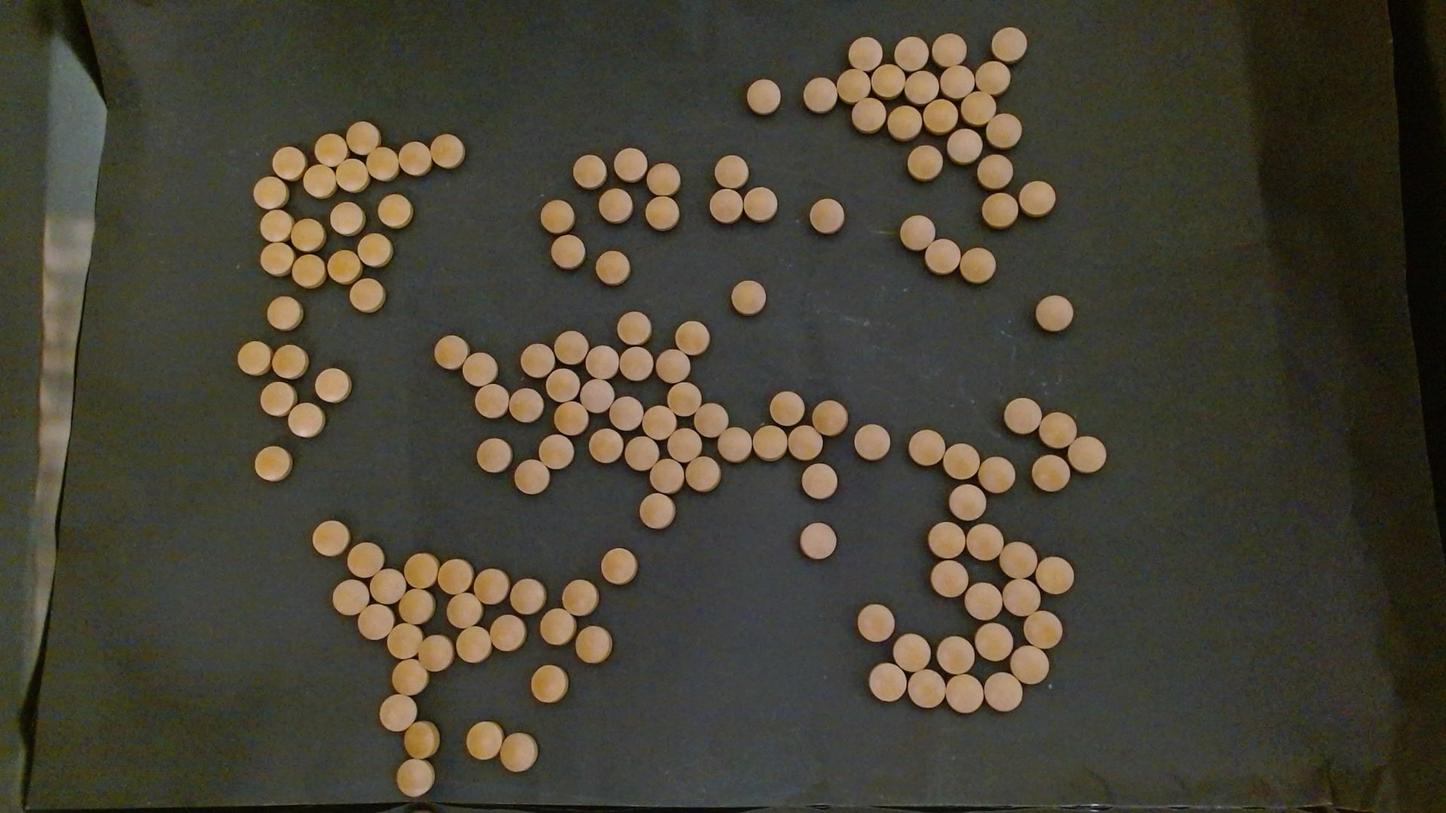Circle: (1033, 294, 1075, 333), (378, 693, 419, 732), (499, 732, 538, 773), (1034, 556, 1075, 595), (856, 603, 895, 643), (1009, 645, 1049, 684), (395, 759, 435, 798), (1018, 179, 1057, 218), (892, 632, 931, 671), (930, 559, 969, 598), (331, 578, 370, 617), (1030, 454, 1070, 492), (1066, 436, 1106, 474), (1002, 397, 1042, 435), (389, 658, 429, 696), (868, 662, 906, 702), (984, 671, 1022, 711), (908, 668, 946, 708), (599, 547, 638, 585), (1039, 410, 1078, 448), (529, 664, 568, 702), (575, 626, 613, 665), (948, 482, 987, 520), (310, 519, 349, 557), (488, 614, 526, 653), (937, 635, 975, 674), (975, 621, 1013, 660), (1002, 578, 1040, 617), (999, 540, 1037, 579), (465, 720, 502, 760), (1023, 611, 1063, 648), (799, 522, 837, 560), (346, 540, 384, 578), (928, 521, 966, 559), (964, 582, 1002, 620), (800, 462, 837, 501), (945, 674, 982, 713), (730, 278, 767, 316), (744, 77, 782, 114), (287, 401, 325, 438), (266, 294, 304, 331), (253, 446, 292, 482), (812, 398, 848, 437), (959, 247, 996, 284), (639, 493, 676, 530), (853, 423, 890, 460), (977, 153, 1014, 190), (259, 380, 296, 417), (561, 578, 598, 615), (428, 132, 465, 169), (942, 443, 979, 480), (314, 367, 352, 403), (539, 608, 575, 646), (509, 578, 545, 616), (347, 277, 385, 313), (908, 428, 944, 466), (270, 343, 308, 379), (968, 522, 1004, 560), (898, 214, 935, 250), (979, 456, 1015, 493), (417, 634, 453, 671), (850, 96, 886, 133), (990, 26, 1027, 62), (368, 568, 405, 604), (892, 35, 929, 71), (388, 623, 425, 659), (258, 241, 295, 277), (475, 437, 511, 473), (513, 459, 549, 495), (236, 340, 272, 376), (432, 333, 468, 369), (329, 200, 365, 236), (398, 588, 434, 624), (357, 603, 393, 639), (252, 175, 288, 211), (906, 144, 941, 181), (802, 76, 837, 113), (598, 187, 633, 224), (456, 626, 491, 663), (377, 192, 414, 227), (437, 558, 472, 595), (447, 592, 482, 629), (404, 720, 438, 758), (595, 249, 630, 285), (982, 193, 1018, 228), (808, 197, 843, 233), (924, 239, 959, 275), (712, 153, 748, 188), (539, 198, 575, 233), (572, 153, 607, 189), (673, 320, 709, 355), (769, 390, 804, 426), (357, 231, 393, 266), (616, 310, 651, 346), (985, 112, 1020, 148), (326, 249, 362, 284), (835, 67, 871, 102), (270, 145, 306, 180), (932, 32, 967, 68), (960, 90, 996, 125), (975, 60, 1010, 96), (473, 568, 508, 604), (709, 187, 743, 224), (743, 187, 778, 222), (550, 234, 585, 269), (645, 195, 680, 230), (291, 253, 326, 288), (538, 434, 573, 469), (847, 35, 882, 70), (649, 457, 684, 492), (553, 400, 588, 435), (520, 343, 555, 378), (545, 367, 580, 402), (693, 402, 728, 437), (404, 553, 438, 589), (346, 120, 380, 156), (258, 208, 294, 242), (334, 157, 368, 193), (474, 383, 508, 419), (904, 69, 938, 105), (871, 62, 905, 98), (608, 395, 642, 431), (947, 128, 981, 163), (612, 147, 647, 181), (397, 141, 431, 176), (887, 105, 921, 140), (717, 427, 751, 462), (752, 425, 786, 460), (462, 352, 497, 386), (685, 456, 719, 491), (923, 98, 958, 132), (290, 217, 325, 251), (302, 163, 336, 198), (625, 435, 659, 470), (941, 64, 975, 99), (579, 378, 613, 413), (655, 349, 691, 382), (508, 388, 542, 422), (588, 428, 622, 462), (554, 330, 588, 364), (642, 406, 676, 440), (789, 425, 822, 460), (315, 132, 348, 167), (619, 346, 654, 379), (667, 427, 700, 461), (668, 382, 701, 416), (365, 145, 397, 180), (585, 346, 618, 379), (645, 163, 679, 195)
